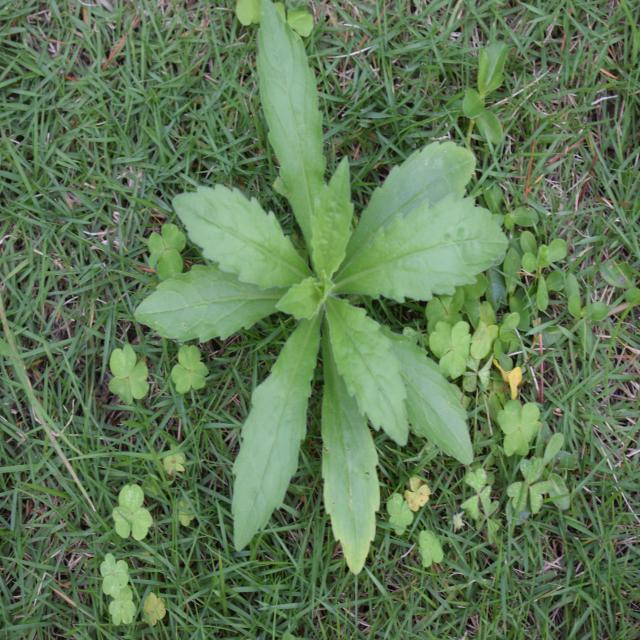horseweed: (152, 54, 495, 520)
